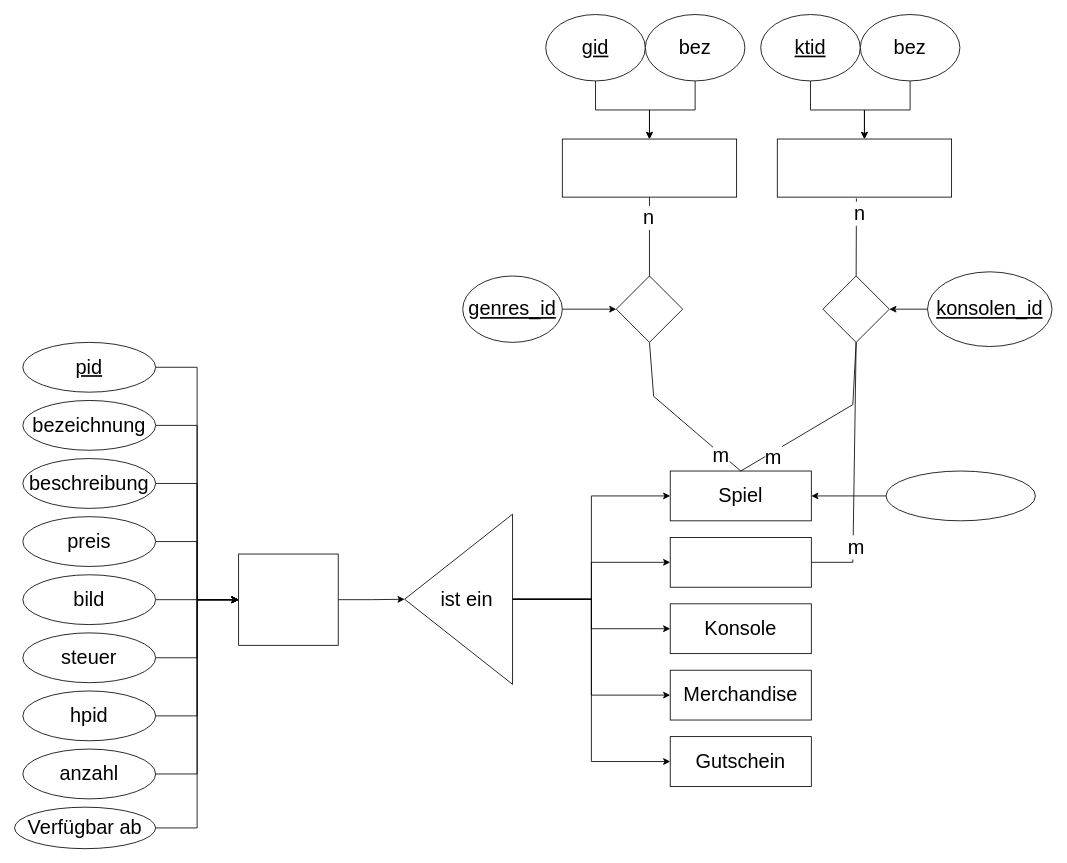
This 1067x863 diagram has some shape labels left out. The shapes that lost their labels are listed below. From the top down, each one's centre as x and y in pixels, then its label:
At pixel 649 167: "genre".
At pixel 864 167: "konsolentyp".
At pixel 649 308: "hat".
At pixel 855 308: "ist vom".
At pixel 960 495: "Altersfreigabe".
At pixel 740 562: "Zubehör".
At pixel 288 599: "Produkt".
